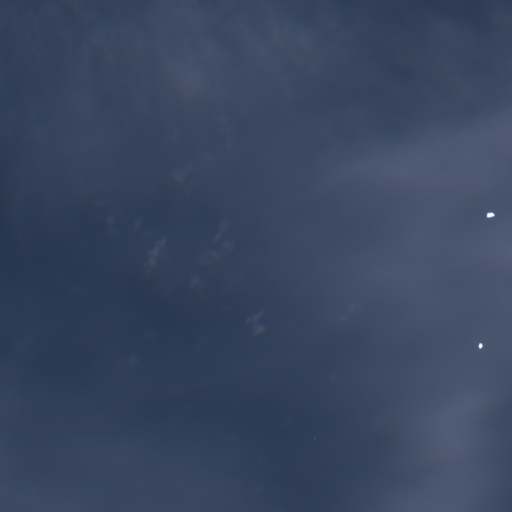Iceberg: (486, 212, 494, 217), (478, 342, 482, 348)
